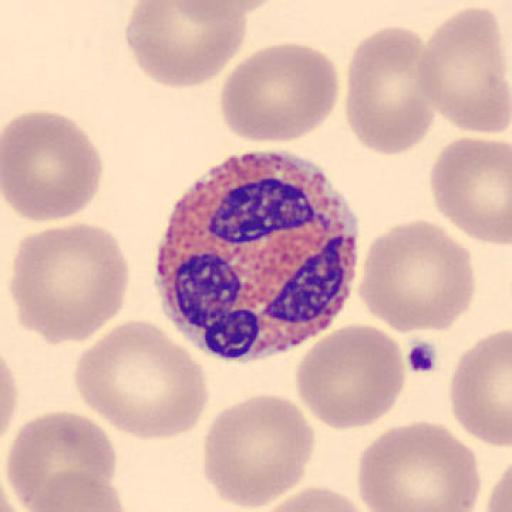RBC: (73, 319, 211, 443), (8, 221, 131, 346), (358, 217, 477, 334), (202, 393, 316, 510), (219, 41, 340, 145), (416, 5, 512, 135), (294, 322, 407, 432), (345, 24, 437, 158), (356, 419, 482, 512), (6, 408, 118, 512), (1, 109, 104, 222), (123, 0, 248, 90), (428, 135, 512, 246), (449, 326, 512, 448), (22, 468, 126, 512), (251, 484, 379, 512), (486, 440, 512, 512), (1, 351, 20, 437), (188, 0, 284, 17), (486, 461, 512, 512)
WBC: (154, 155, 362, 363)
